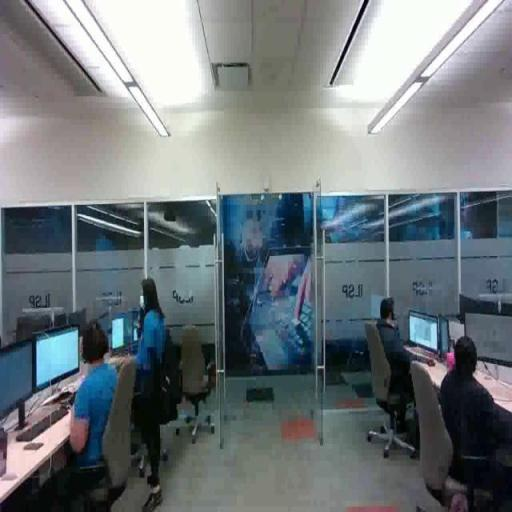person: (35, 322, 136, 506), (435, 333, 512, 501), (368, 292, 447, 452), (128, 272, 169, 512)
